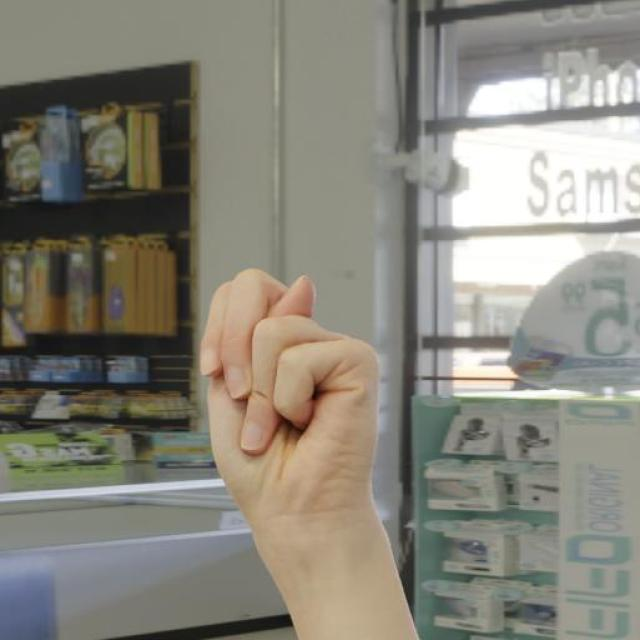N: (197, 268, 379, 510)
